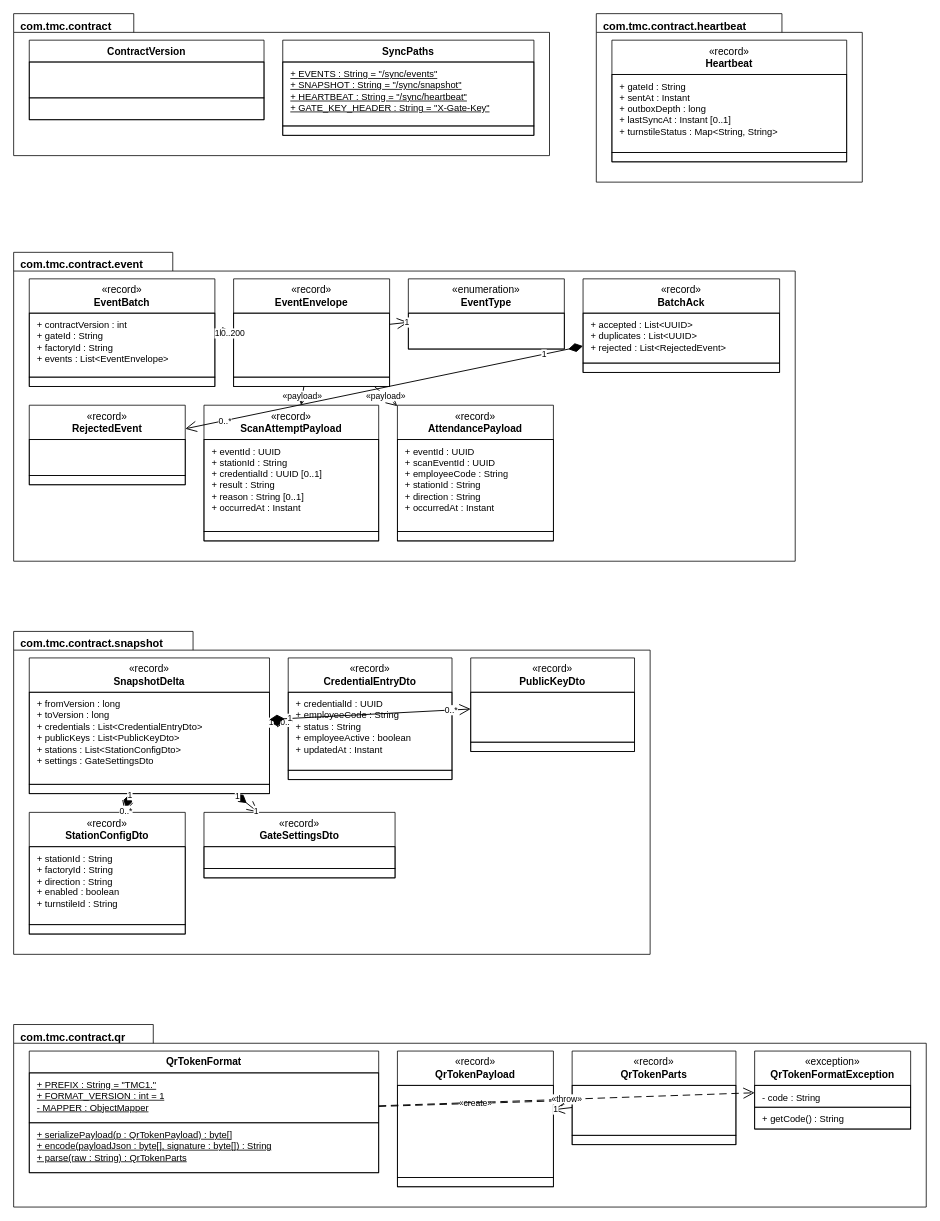
Image size: 940x1221. Some labels were removed from this diagram. The shapes that lost their labels are listed below. From the top down, each one's centre as x and y in pixels, then its label:
the point at 146,79: + CURRENT : int = 1 + MAX_BATCH_SIZE : int = 200
the point at 146,108: + isSupported(version : int) : boolean
the point at 311,344: + eventId : UUID + type : EventType + occurredAt : Instant + payload : JsonNode
the point at 486,330: SCAN_ATTEMPT_RECORDED ATTENDANCE_RECORDED
the point at 106,457: + eventId : UUID + reason : String
the point at 552,716: + kid : String + publicKeyBase64 : String + active : boolean
the point at 299,857: + offlineThresholdMinutes : int
the point at 653,1110: + payloadJson : byte[] + signature : byte[] + payload : QrTokenPayload
the point at 475,1131: + v : int + cid : UUID + iat : long + exp : long + nonce : String + kid : String
